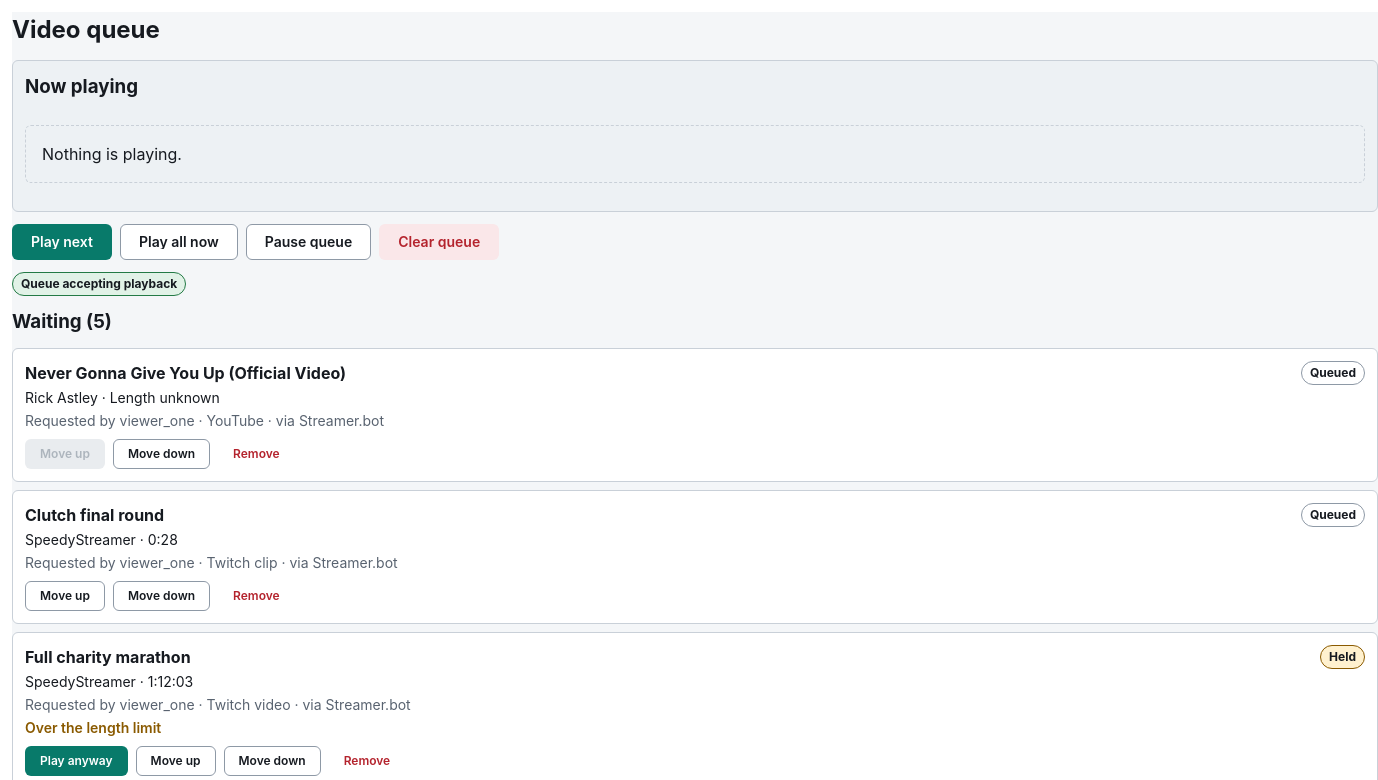
Test case: VideoQueuePanel › provider details › names actions with the provider title when no title was submitted
Click the button with aria-label "Remove: Never Gonna Give You Up (Official Video)" at coordinates (256, 454), box left=218, top=439, right=295, bottom=469
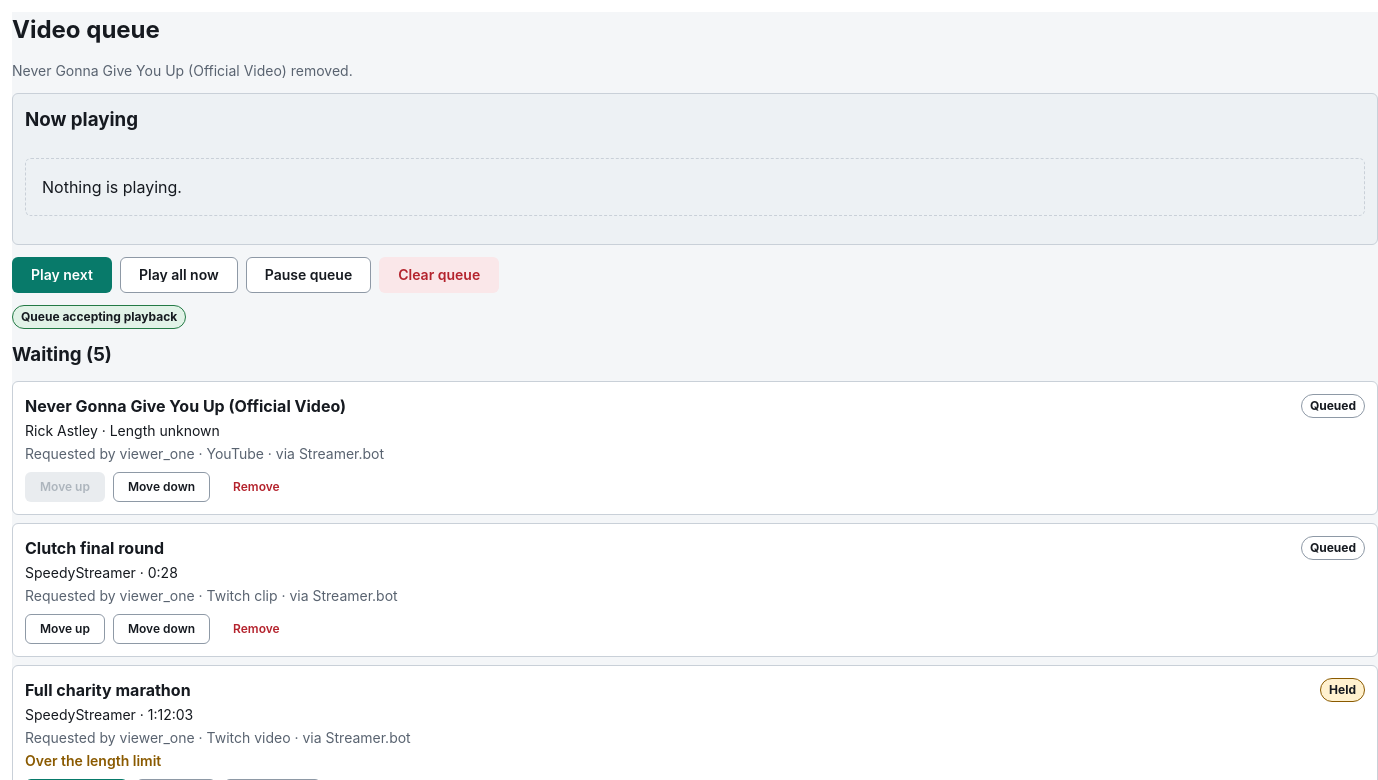
Expected: the text "Never Gonna Give You Up (Official Video) removed." is shown, left=12, top=62, right=353, bottom=79
